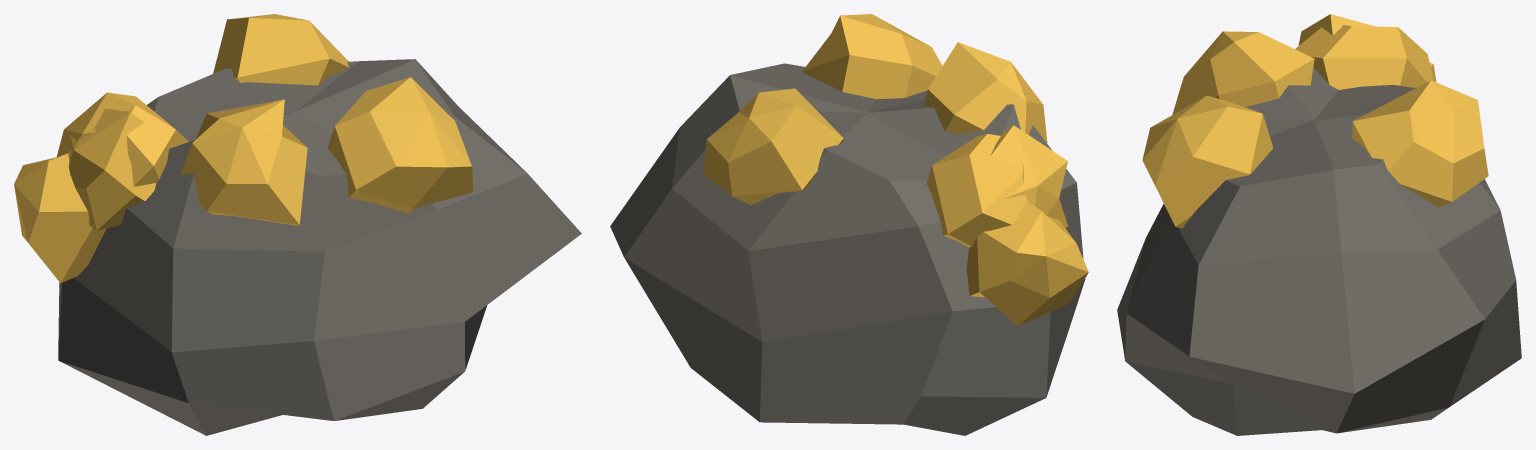
File: mat-gold-ore.glb
3 renders of one model, left to right at view 1: azimuth 30°, elevation 25°; view 2: azimuth 150°, elevation 25°; view 3: azimuth 270°, elevation 25°, orthographic.
Parts seen in each view (by area): view 1: mat; view 2: mat; view 3: mat.
Boxes of the visible parts, x1,y1,x2,y2 form: mat: (14, 14, 581, 435); mat: (610, 14, 1088, 435); mat: (1117, 14, 1521, 435).
Size of the model in its own units: 0.3584 by 0.2339 by 0.2613.
